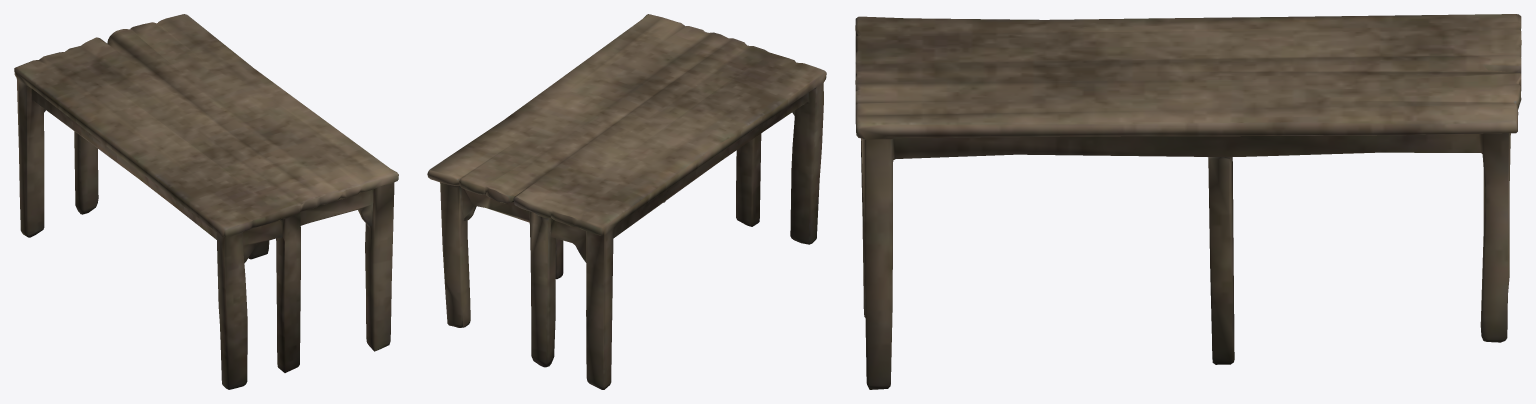
File: wooden-bench-v001.glb
3 views of the same model, side by side, from view 1: azimuth 30°, elevation 25°; view 2: azimuth 150°, elevation 25°; view 3: azimuth 270°, elevation 25° (orthographic). The views are drawn at different scales.
Parts seen in each view (by area): view 1: wooden-bench; view 2: wooden-bench; view 3: wooden-bench.
Part boxes in pixels (x1=…): wooden-bench: x1=14, y1=14, x2=398, y2=389; wooden-bench: x1=427, y1=14, x2=826, y2=389; wooden-bench: x1=855, y1=14, x2=1521, y2=389.
Bounding box in the file's own units: 0.452 × 0.448 × 0.9598.
1 material, 1 textured.
